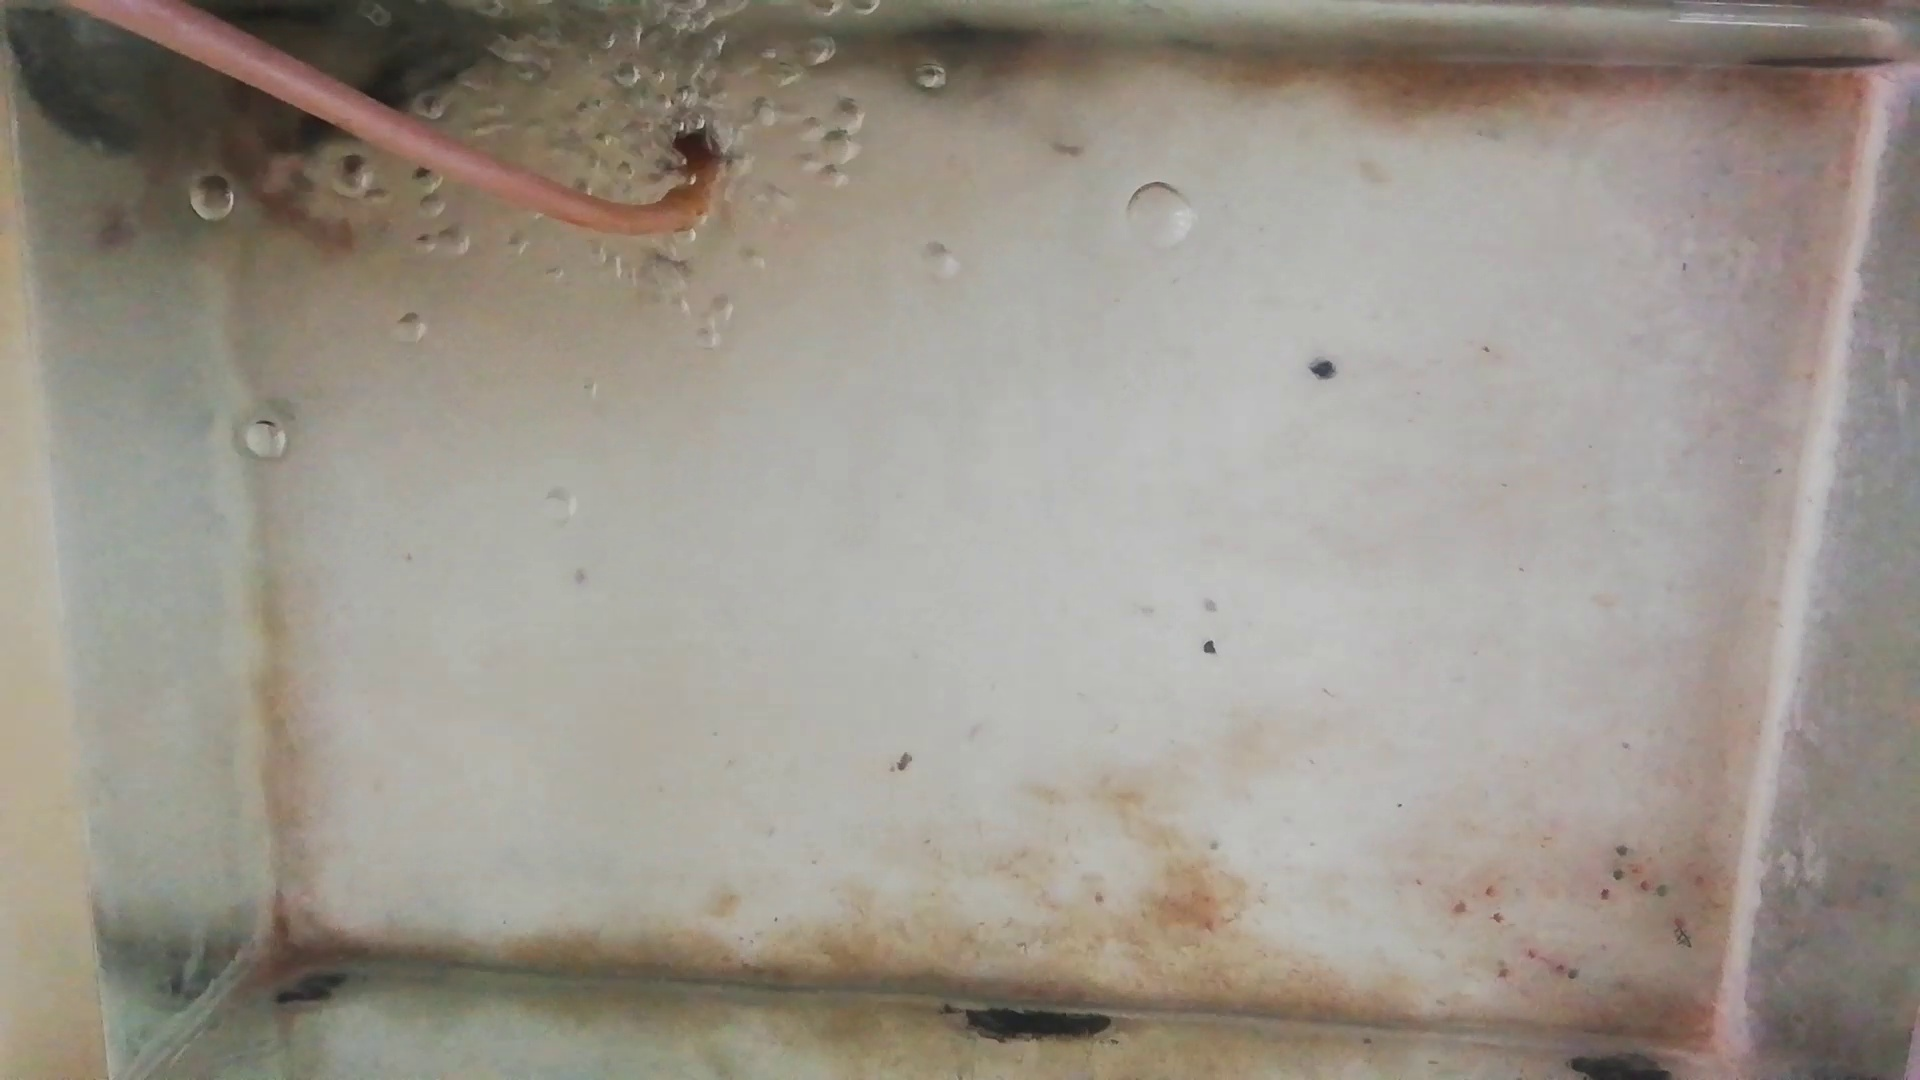fish: (207, 111, 349, 244), (291, 62, 443, 136)
